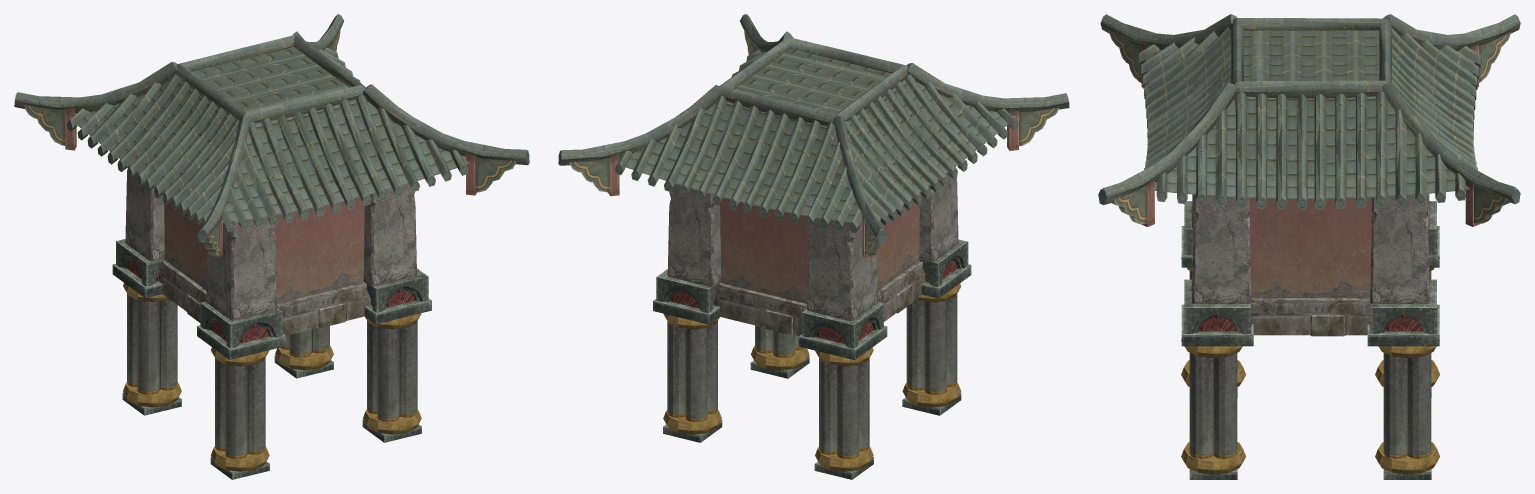
The model's file is bg_anh_delphic_bd02_sm_old.FBX.
The picture shows the model from 3 angles, left to right: view 1: azimuth 30°, elevation 25°; view 2: azimuth 150°, elevation 25°; view 3: azimuth 270°, elevation 25°; orthographic projection. The views are drawn at different scales.
Visible parts, largest first — view 1: bg_anh_delphic_bd02_sm_old; view 2: bg_anh_delphic_bd02_sm_old; view 3: bg_anh_delphic_bd02_sm_old.
Boxes of the visible parts, left/top/right/bottom form: bg_anh_delphic_bd02_sm_old: left=14, top=14, right=529, bottom=479; bg_anh_delphic_bd02_sm_old: left=558, top=14, right=1069, bottom=479; bg_anh_delphic_bd02_sm_old: left=1098, top=14, right=1520, bottom=479.
Bounding box in the file's own units: 536 × 532 × 536.
